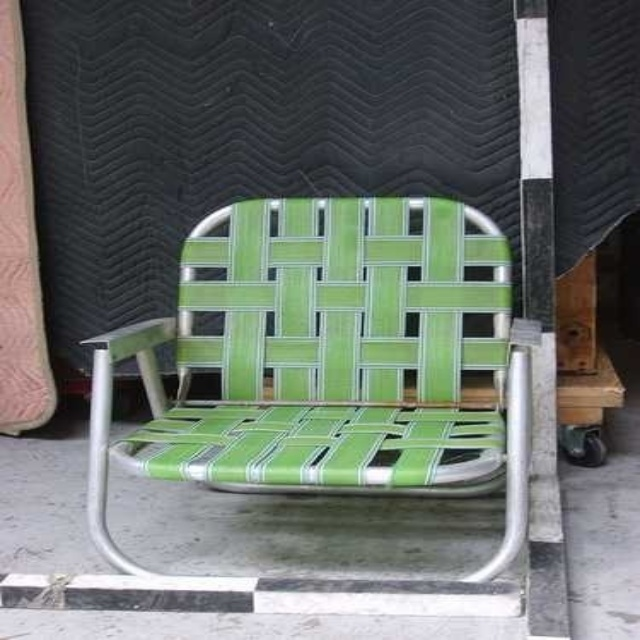obstacle: (84, 197, 527, 580)
